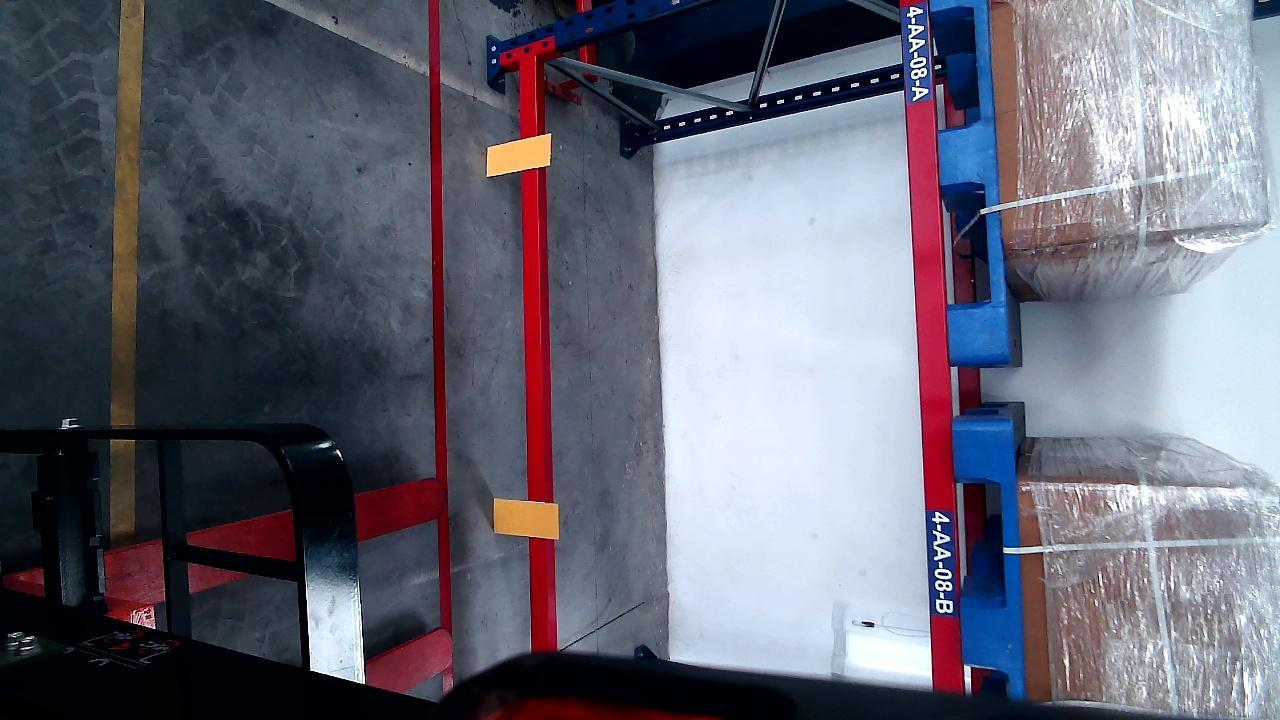red_line: (424, 1, 452, 627)
yellow_line: (108, 2, 145, 536)
